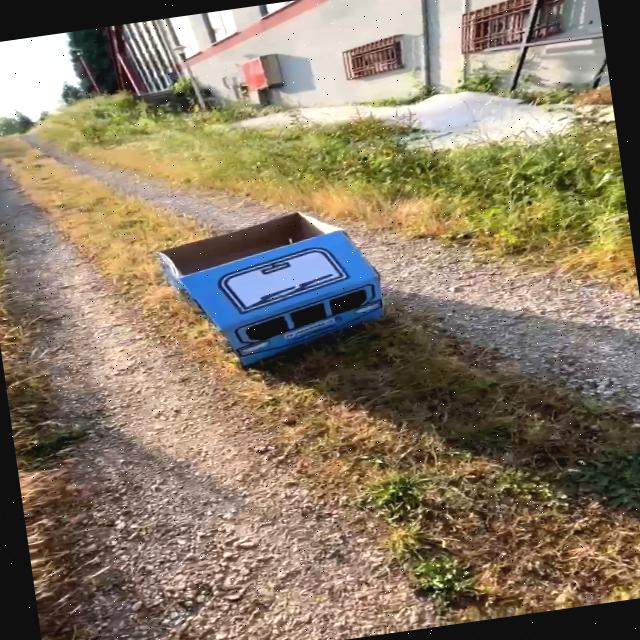blue_car: (127, 175, 481, 395)
